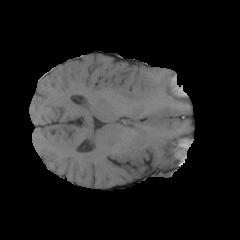glioma: (114, 67, 155, 100)
